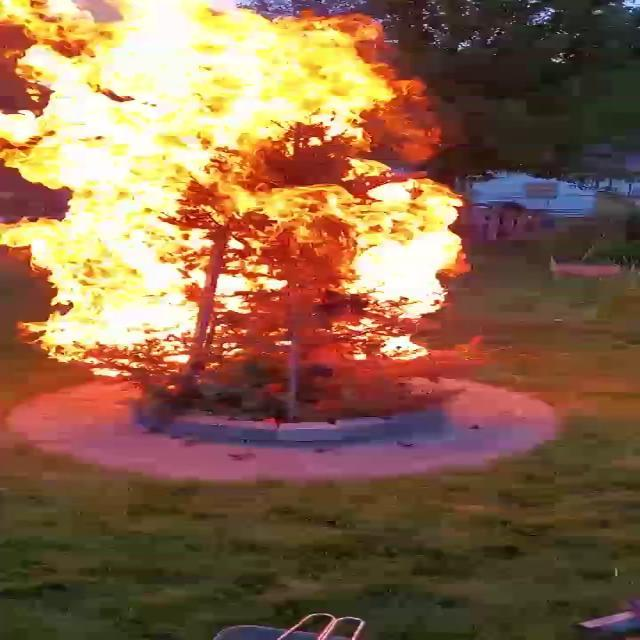Fire: (2, 0, 480, 379)
